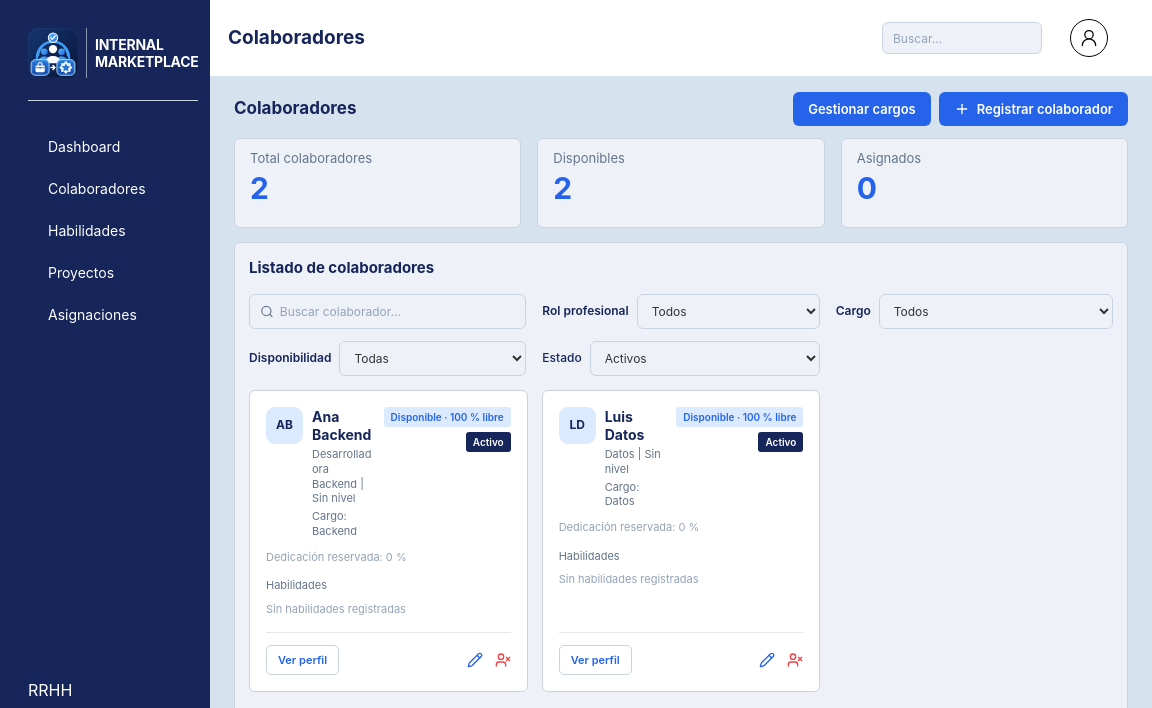
Scenario: RRHH: colaboradores activos y reincorporaciones › filtra por cargo y muestra disponibilidad fuera del desplegable
The width and height of the screenshot is (1152, 708).
Expected: the text "Cargo: Backend" is shown, 312,509 -> 357,538
Expected: the text "Cargo: Datos" is shown, 605,480 -> 639,508
Step 1. Select "Backend" in the dropdown named "Filtrar por cargo" → [996, 311], box 879,294 -> 1113,328
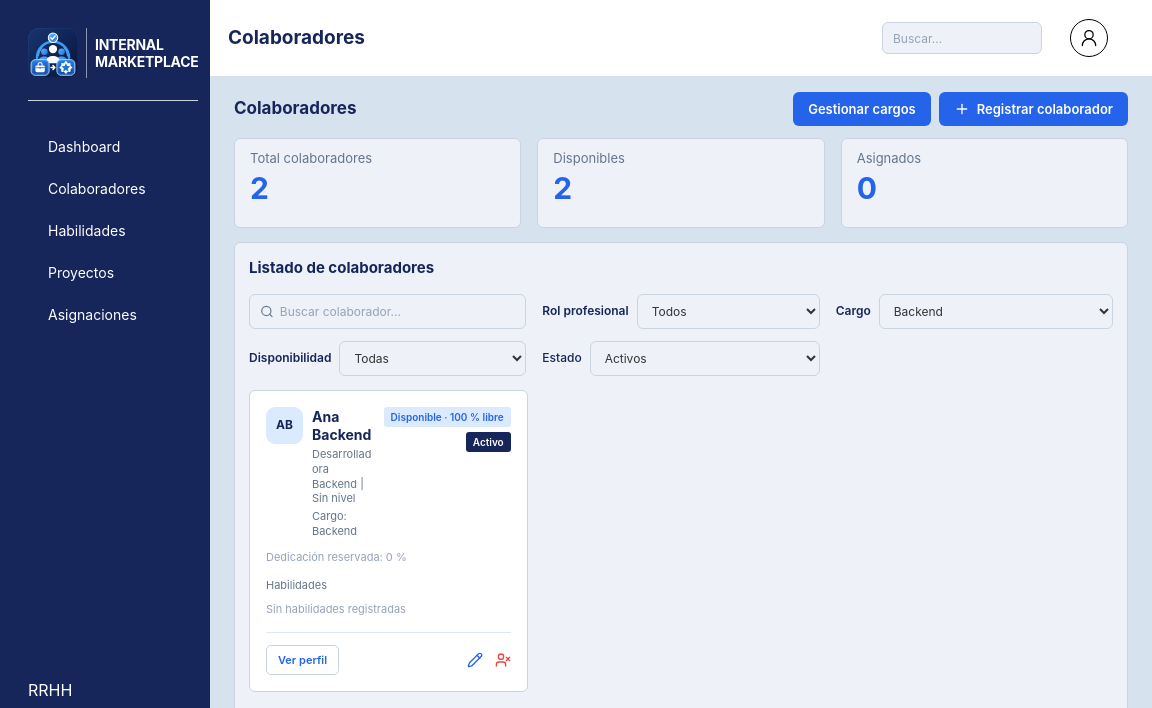
Expected: the heading "Ana Backend" is shown, 312,408 -> 375,444
Now the heading "Luis Datos" is gone
